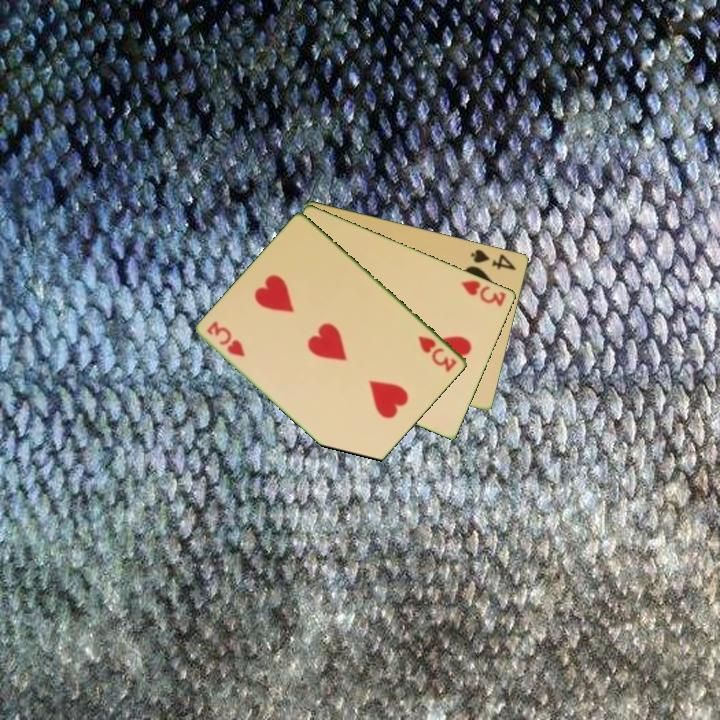3h: (415, 332, 460, 375), (204, 318, 249, 360), (458, 276, 509, 309)
4s: (467, 245, 519, 273)
